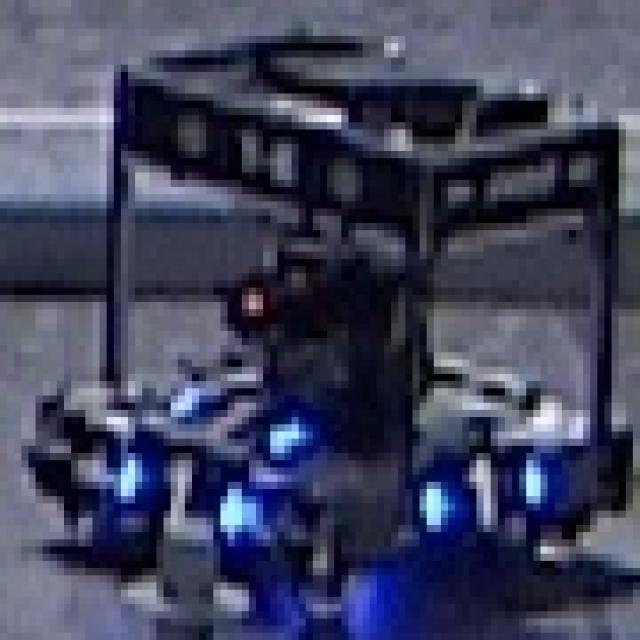B1: (92, 432, 249, 540), (170, 360, 306, 453), (405, 446, 555, 525)
